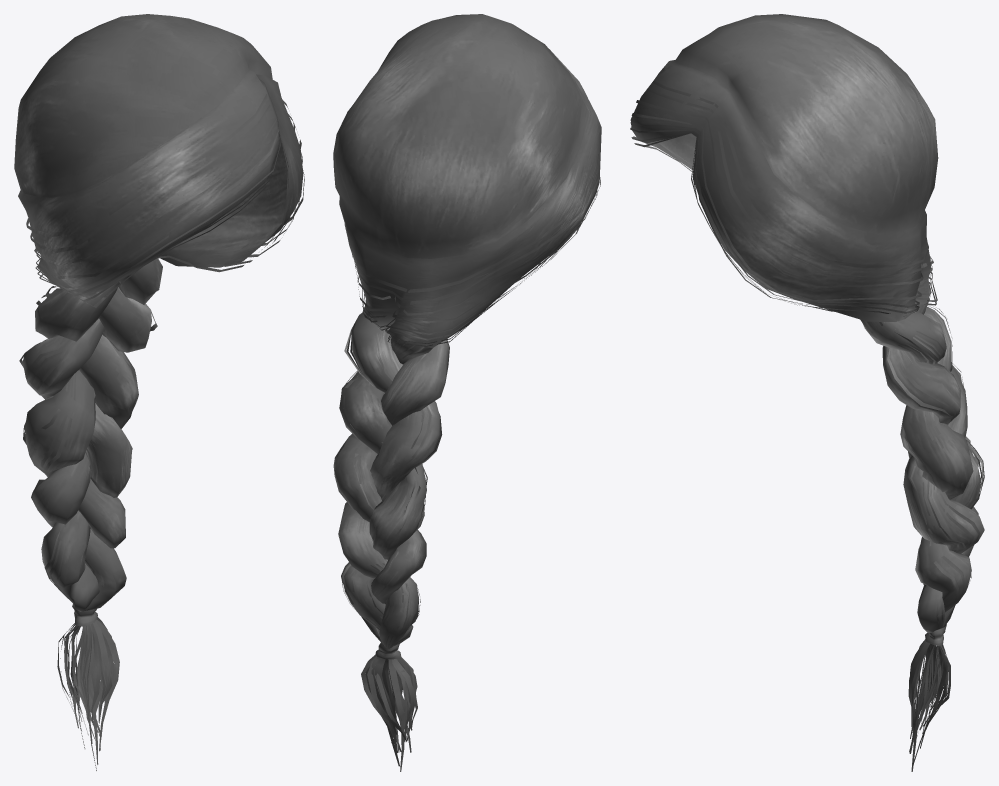
File: braid01.glb
3 renders of one model, left to right at view 1: azimuth 30°, elevation 25°; view 2: azimuth 150°, elevation 25°; view 3: azimuth 270°, elevation 25°, orthographic. The views are drawn at different scales.
Visible parts, largest first — view 1: editor_braid01; view 2: editor_braid01; view 3: editor_braid01.
Part boxes in pixels (x1,y1,x2,y2): editor_braid01: [14, 14, 304, 770]; editor_braid01: [333, 14, 601, 771]; editor_braid01: [630, 14, 984, 771].
Bounding box in the file's own units: 0.1846 × 0.5869 × 0.2525.
1 material, 1 textured.
